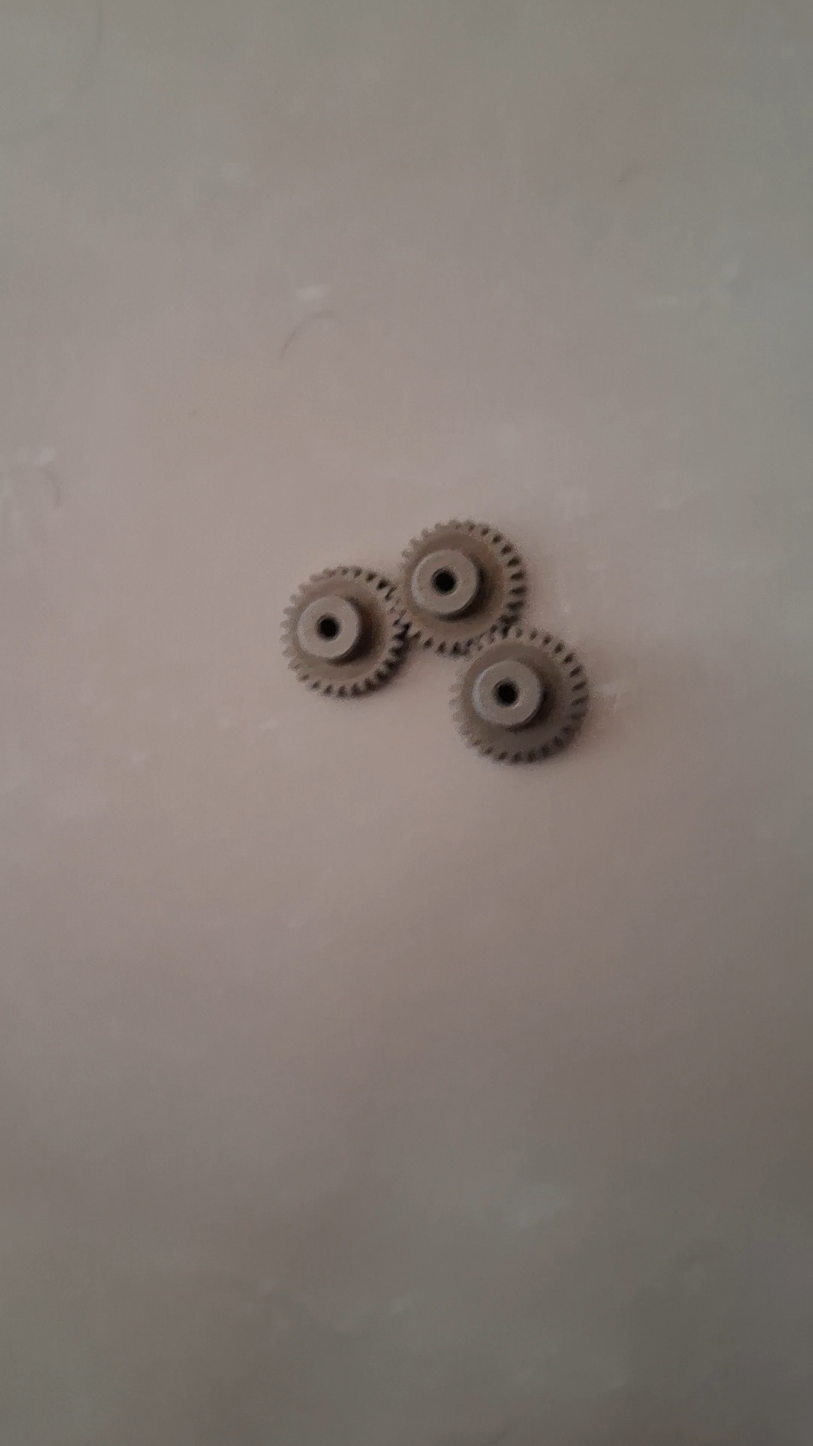spur gear: (452, 625, 588, 762), (399, 521, 525, 654), (283, 567, 405, 697)
